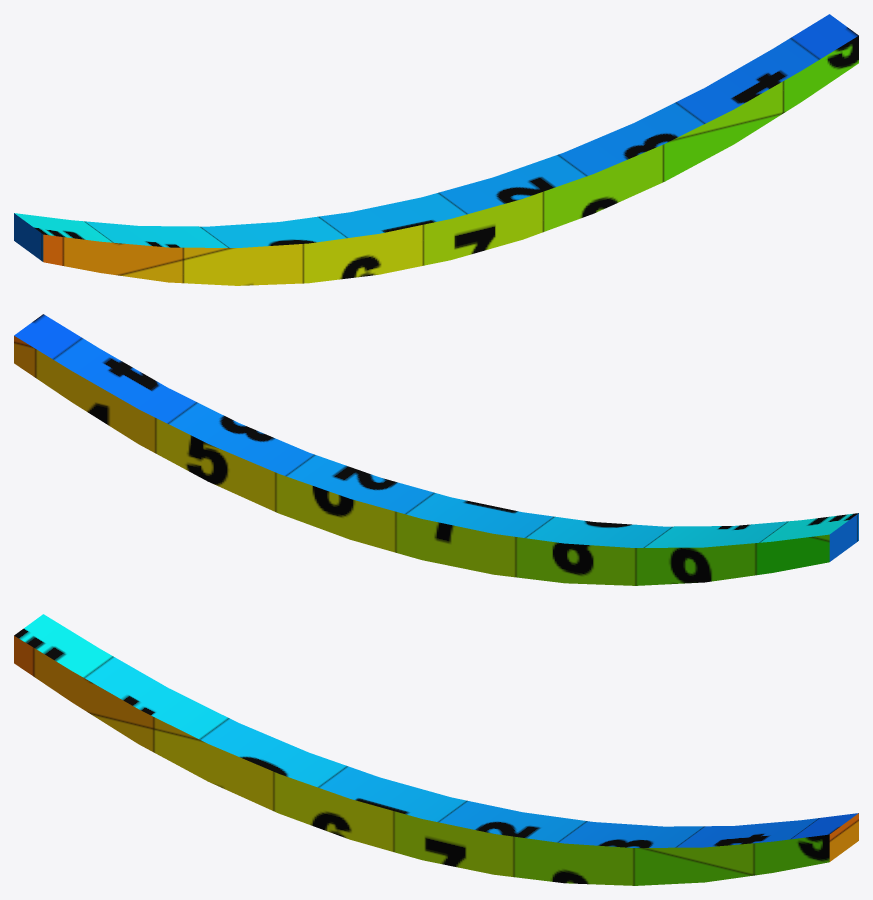
File: SM_Module_bridge_large.fbx
The picture shows the model from 3 angles, top to bottom: view 1: azimuth 30°, elevation 25°; view 2: azimuth 150°, elevation 25°; view 3: azimuth 330°, elevation 25°; orthographic projection.
Parts seen in each view (by area): view 1: SM_Module_bridge_large; view 2: SM_Module_bridge_large; view 3: SM_Module_bridge_large.
Part boxes in pixels (box(x1,y1,x2,y2)): SM_Module_bridge_large: box(14, 14, 858, 285); SM_Module_bridge_large: box(14, 314, 858, 585); SM_Module_bridge_large: box(14, 614, 858, 885).
Bounding box in the file's own units: 1600 × 234 × 100.
1 material, 1 textured.
